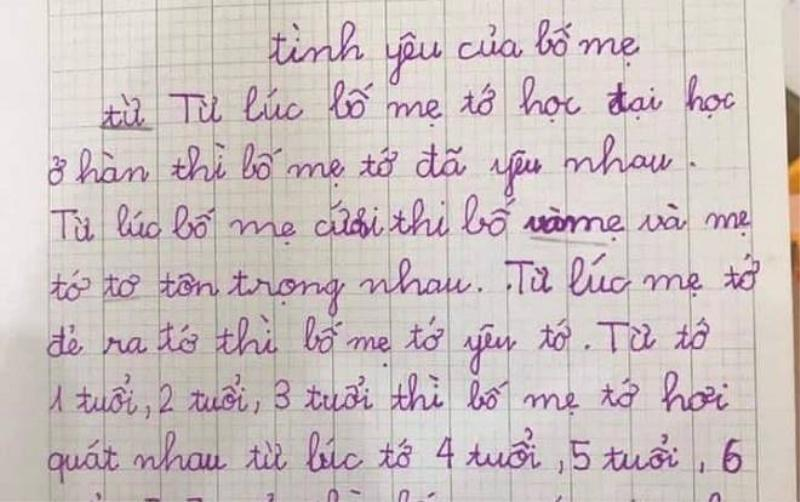text: (46, 249, 763, 319), (43, 311, 714, 379), (46, 131, 699, 200), (46, 425, 745, 487), (49, 192, 754, 250), (99, 71, 738, 133), (46, 369, 731, 424), (265, 16, 643, 87)
